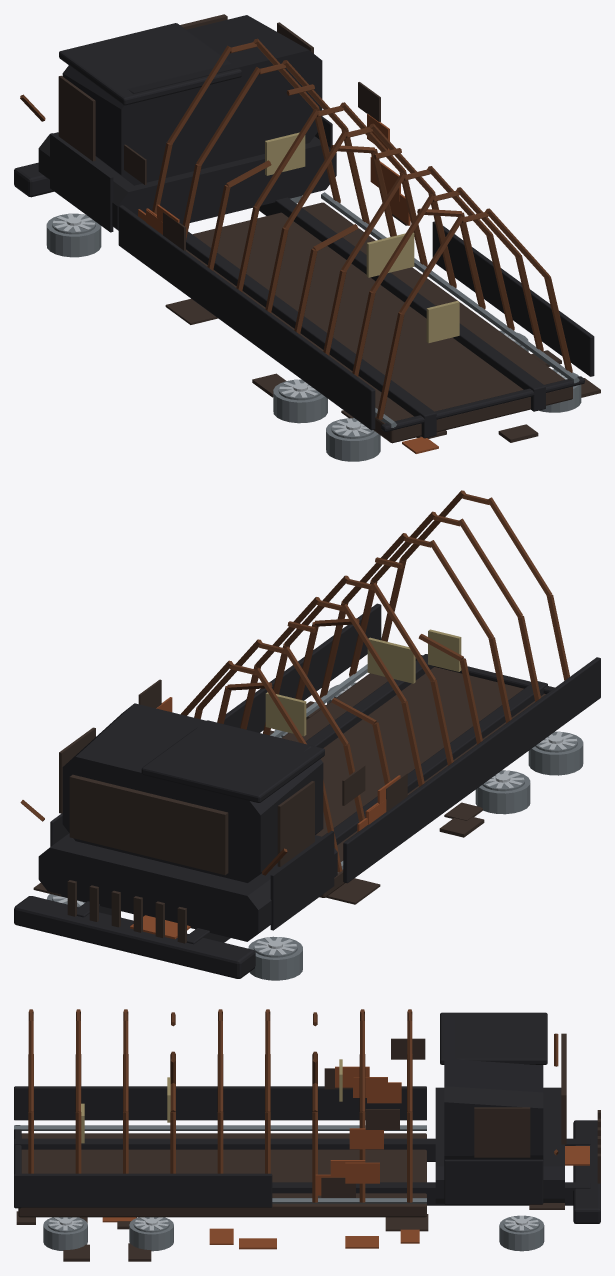
The model's file is army_truck_burnt.glb.
3 renders of one model, top to bottom at view 1: azimuth 30°, elevation 25°; view 2: azimuth 150°, elevation 25°; view 3: azimuth 270°, elevation 25°, orthographic. The views are drawn at different scales.
Parts seen in each view (by area): view 1: army_truck_burnt; view 2: army_truck_burnt; view 3: army_truck_burnt.
Boxes of the visible parts, x1,y1,x2,y2 form: army_truck_burnt: [14, 14, 600, 461]; army_truck_burnt: [14, 490, 600, 980]; army_truck_burnt: [14, 1009, 600, 1261].
Size of what is drawn, in the model's own units: 3.06 by 2.42 by 6.82.
3 materials, 3 textured.
